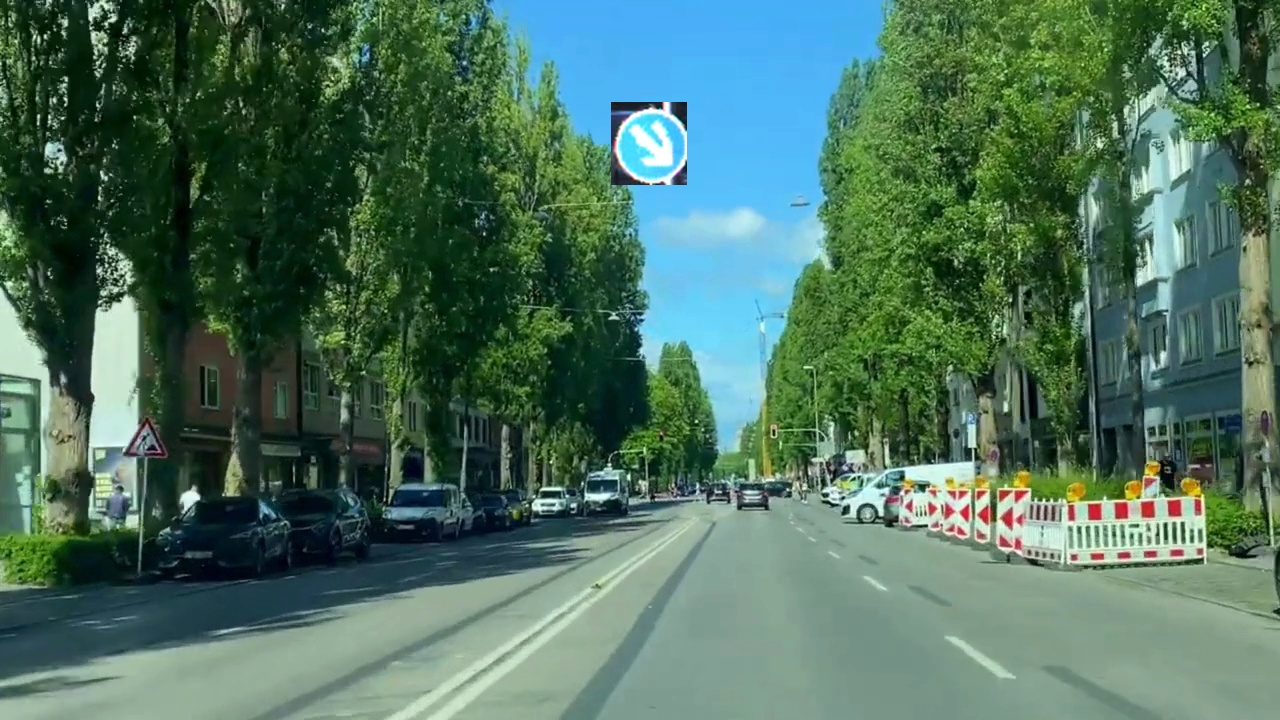Keep right: (611, 102, 687, 185)
